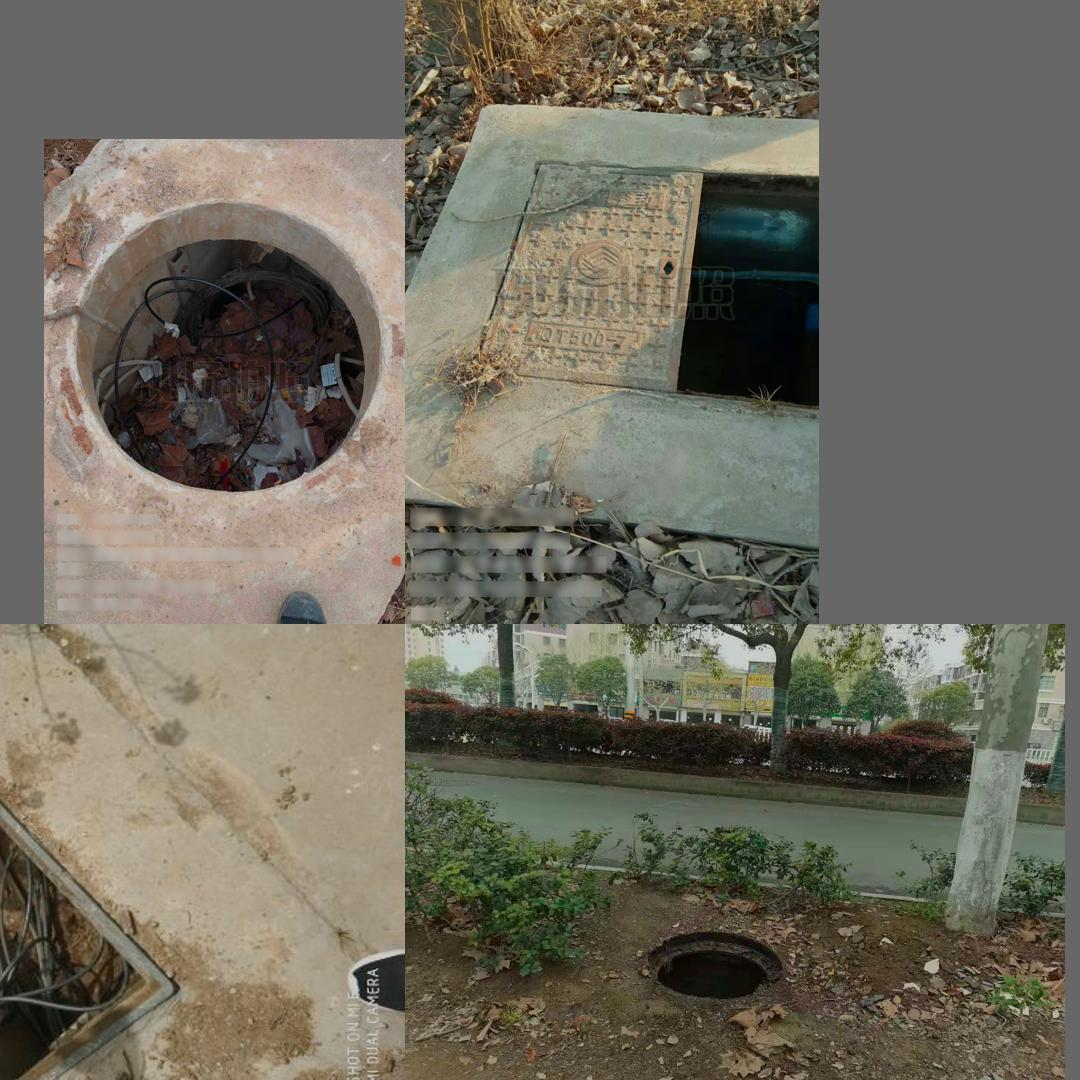lose: (467, 100, 815, 501), (74, 196, 380, 492), (0, 690, 177, 1080), (646, 930, 786, 1002)
